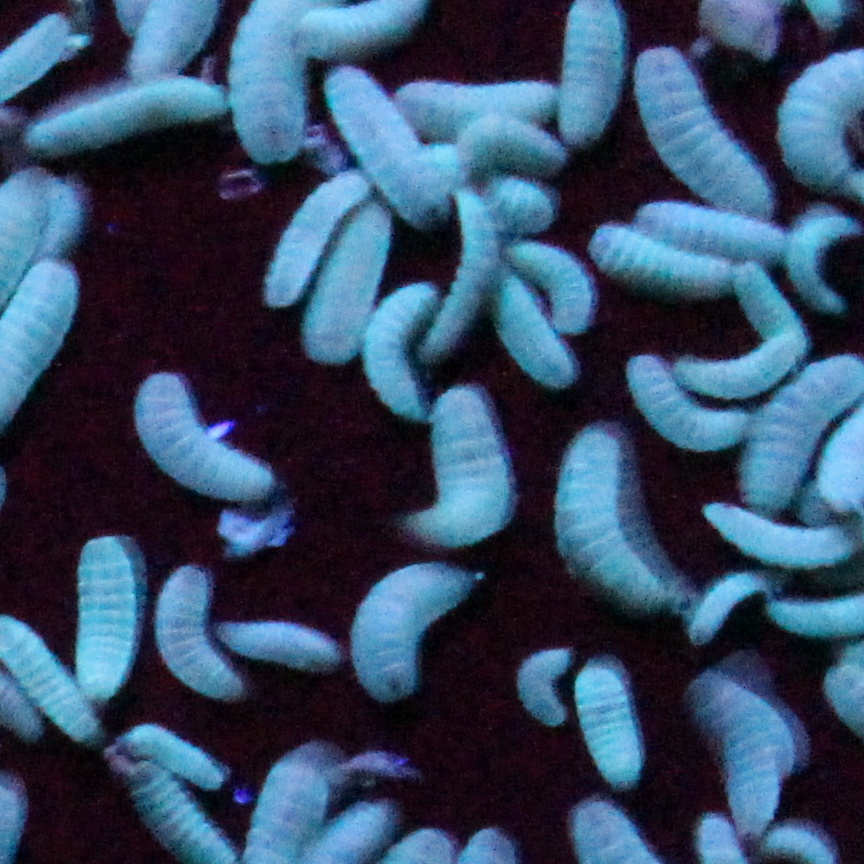larve: (536, 433, 693, 610), (631, 45, 773, 213), (313, 63, 456, 223), (401, 385, 526, 558), (343, 548, 486, 695), (141, 373, 283, 490), (26, 85, 253, 153), (301, 203, 396, 363), (268, 163, 368, 308), (696, 268, 813, 390), (698, 668, 786, 828), (148, 560, 238, 713), (363, 288, 458, 420), (626, 183, 791, 258), (618, 340, 738, 443), (73, 540, 136, 715), (596, 218, 748, 288), (676, 553, 766, 640), (586, 673, 653, 788), (506, 245, 598, 325), (126, 723, 231, 790), (218, 630, 358, 670)
